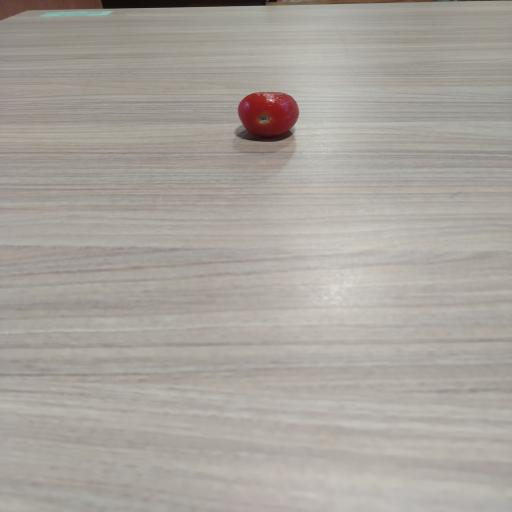spoiled: (238, 92, 299, 137)
